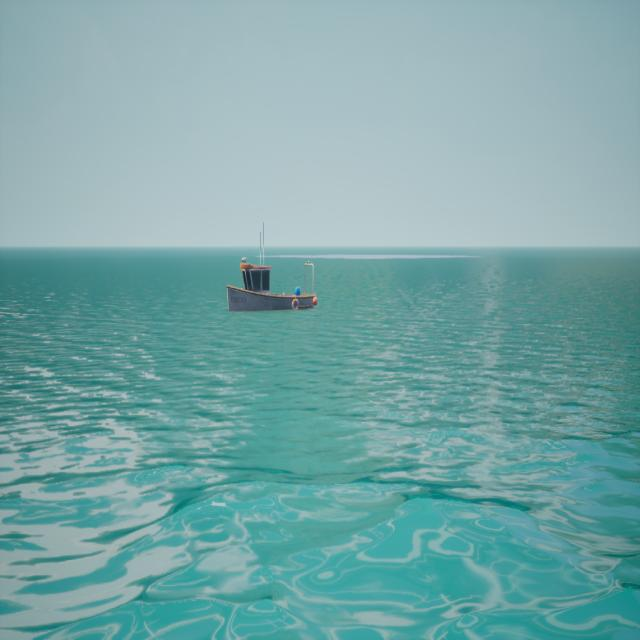ship: (229, 223, 321, 315)
